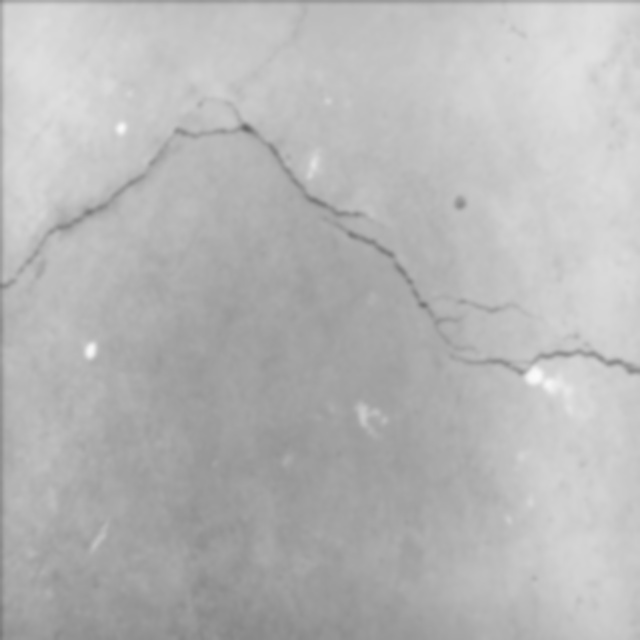SurfaceCrack: (1, 69, 640, 418)
